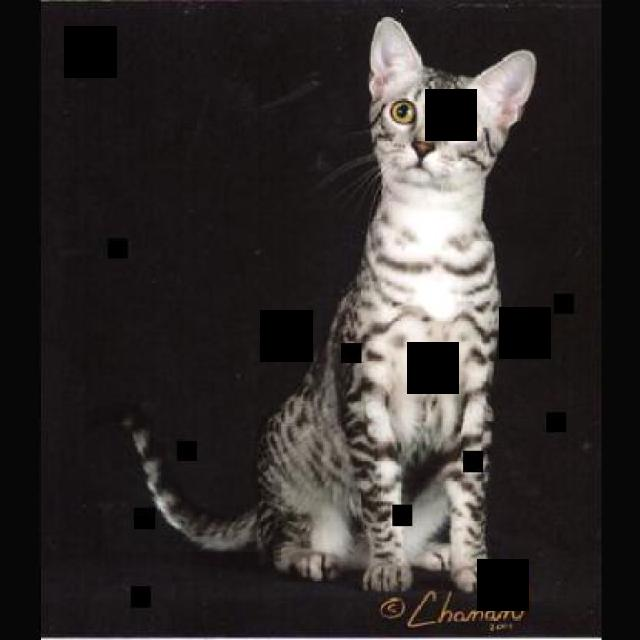unauthorized: (120, 14, 537, 594)
